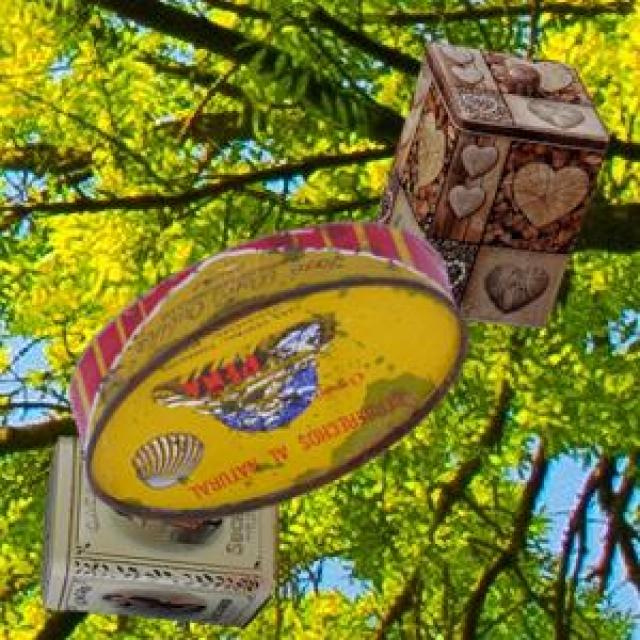logam: (67, 219, 464, 517), (372, 39, 605, 325), (37, 434, 276, 624)
